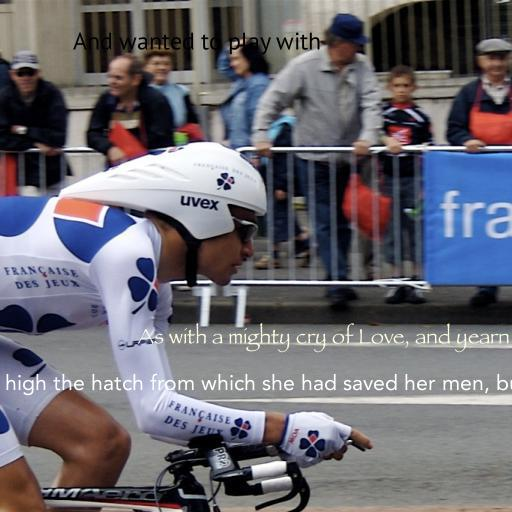Avenir: (0, 373, 512, 396)
PT Sans: (73, 32, 321, 55)
Papyrus: (138, 323, 510, 353)
